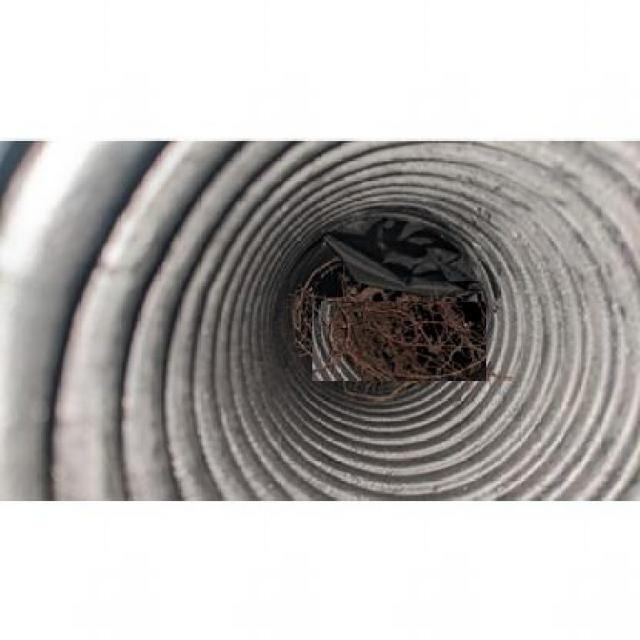root: (337, 291, 472, 378)
